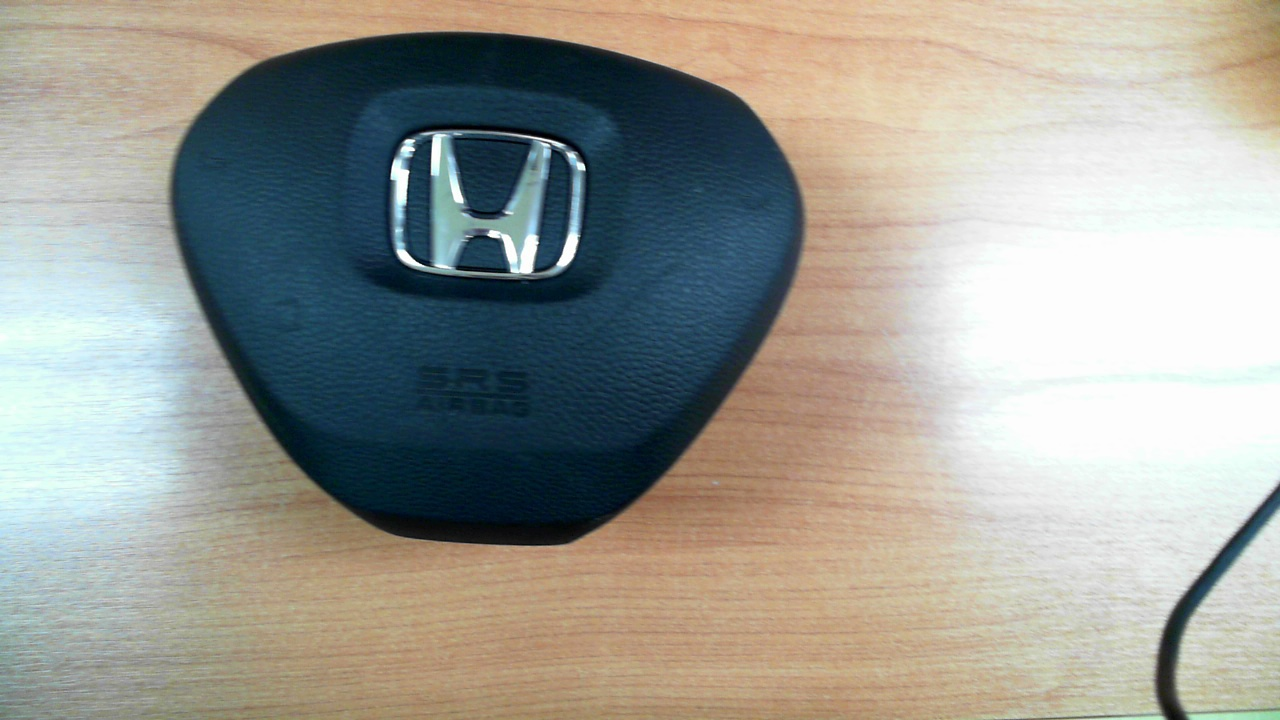Airbag: (169, 32, 806, 546)
Honda: (390, 129, 587, 280)
